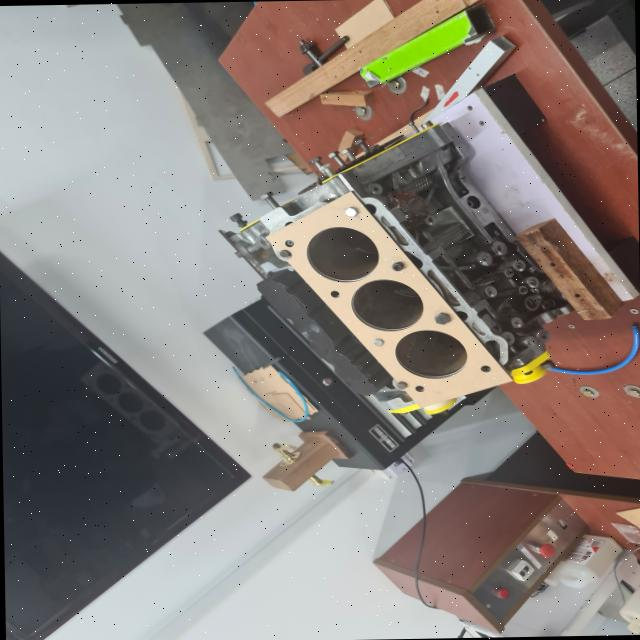tor_v1: (264, 192, 510, 407)
